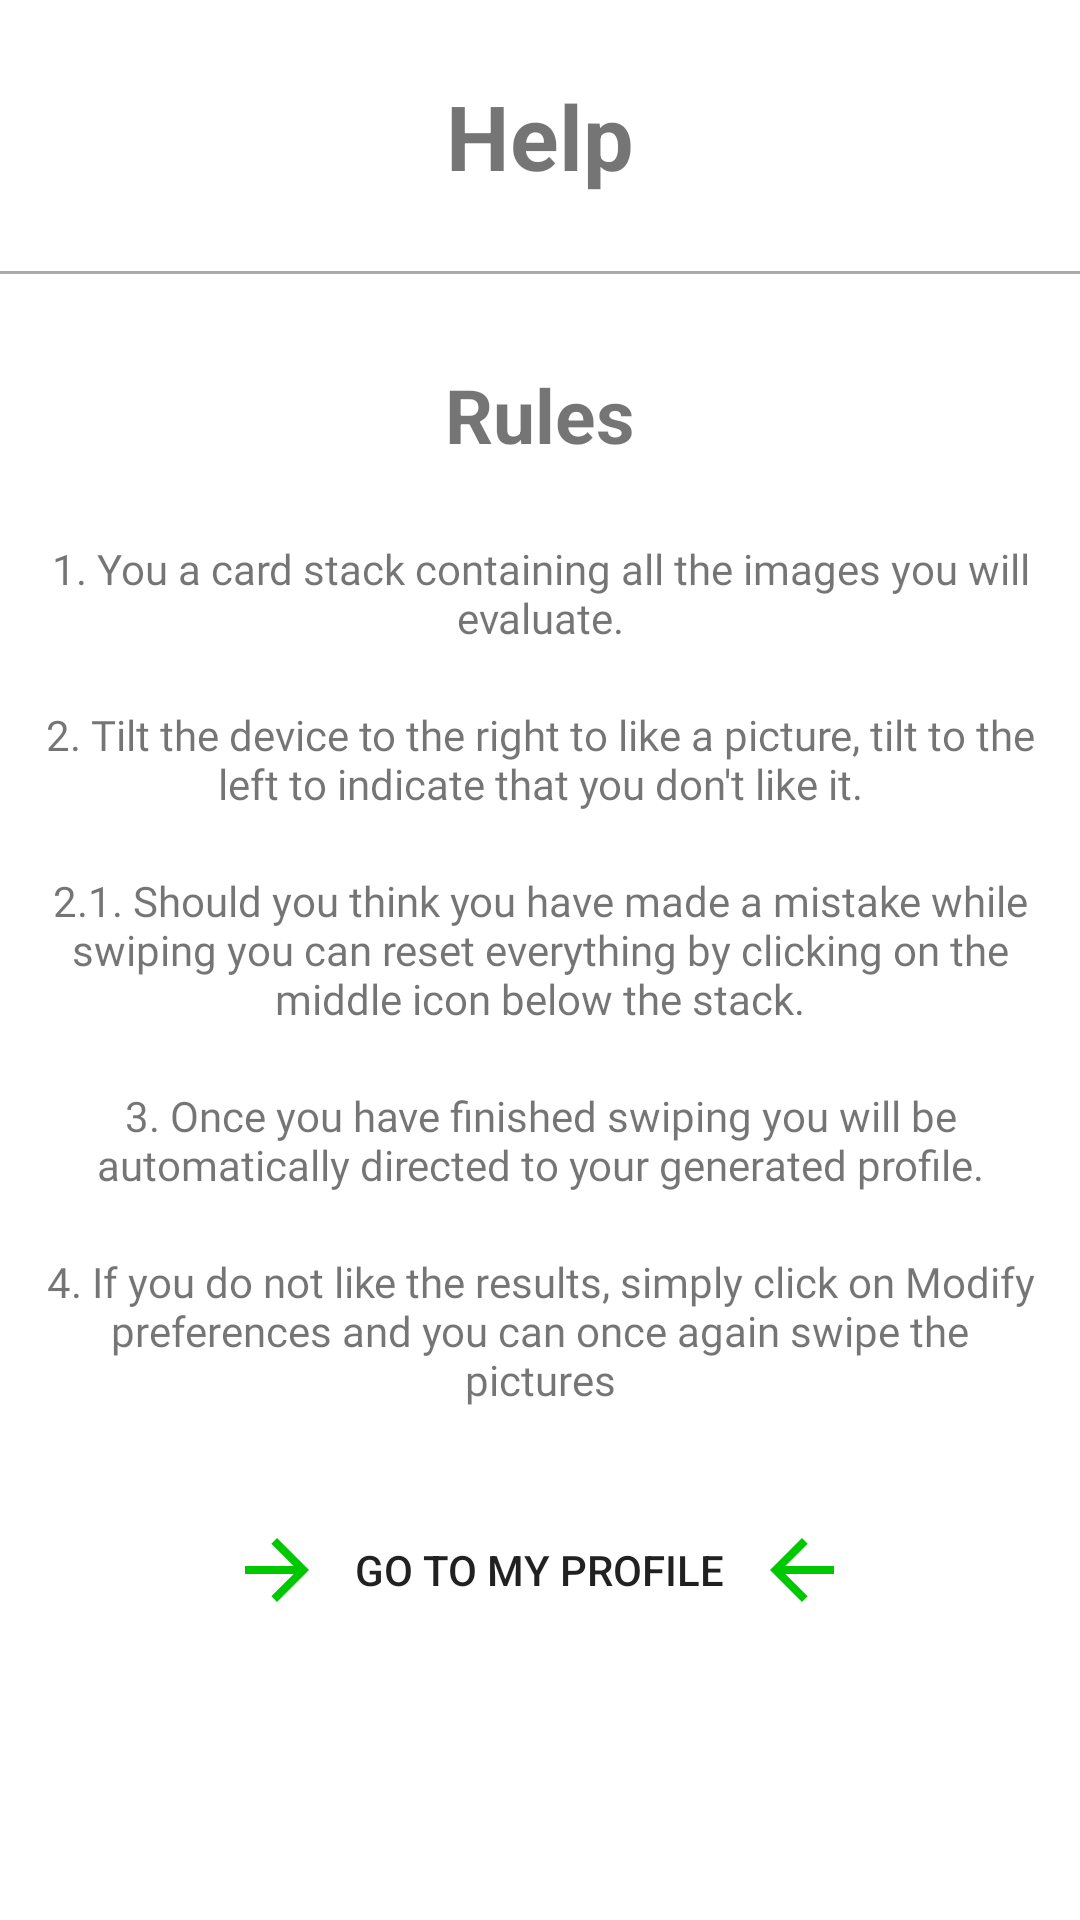

Screen size 1080 x 1920. Icon name, then its box in pixels as (x1, y1, x2, y2):
arrow back: (770, 1538, 834, 1602)
arrow forward: (245, 1538, 309, 1602)
